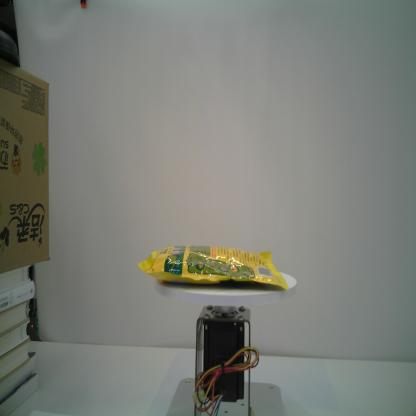Seasoner: (136, 244, 290, 293)
